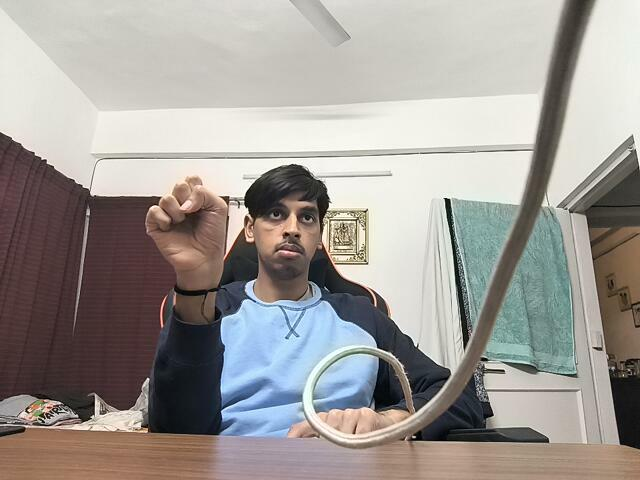DOWN: (137, 172, 239, 272)
